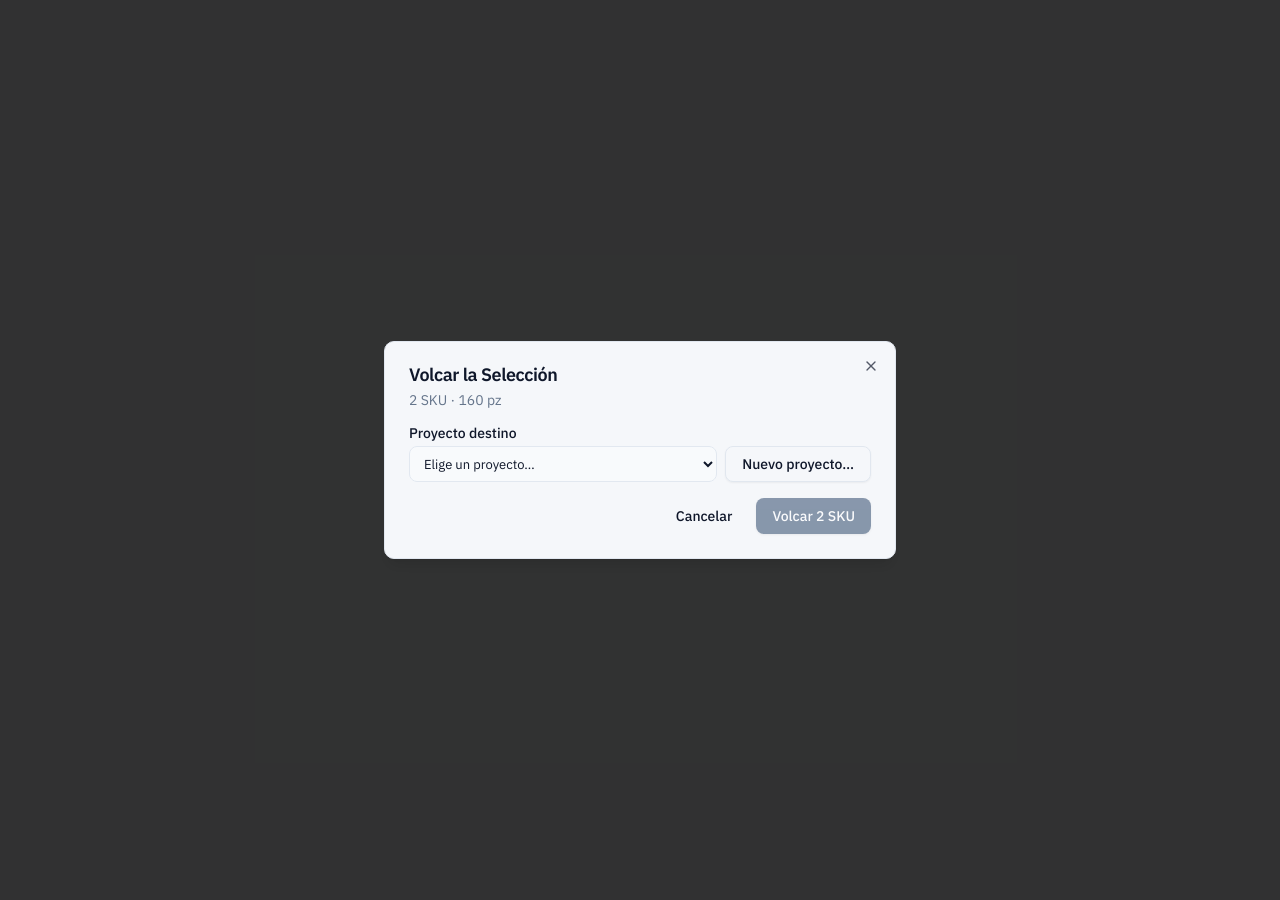
it: [INV-B8.2] VolcarDialog › volcado limpio: enseña el antes → después y vacía la Selección
This screenshot has width=1280, height=900.
Select "PRJ-050 · Rollout Norte" in the dropdown labelled "Proyecto destino" at point(563, 464), box [409,446,717,482]
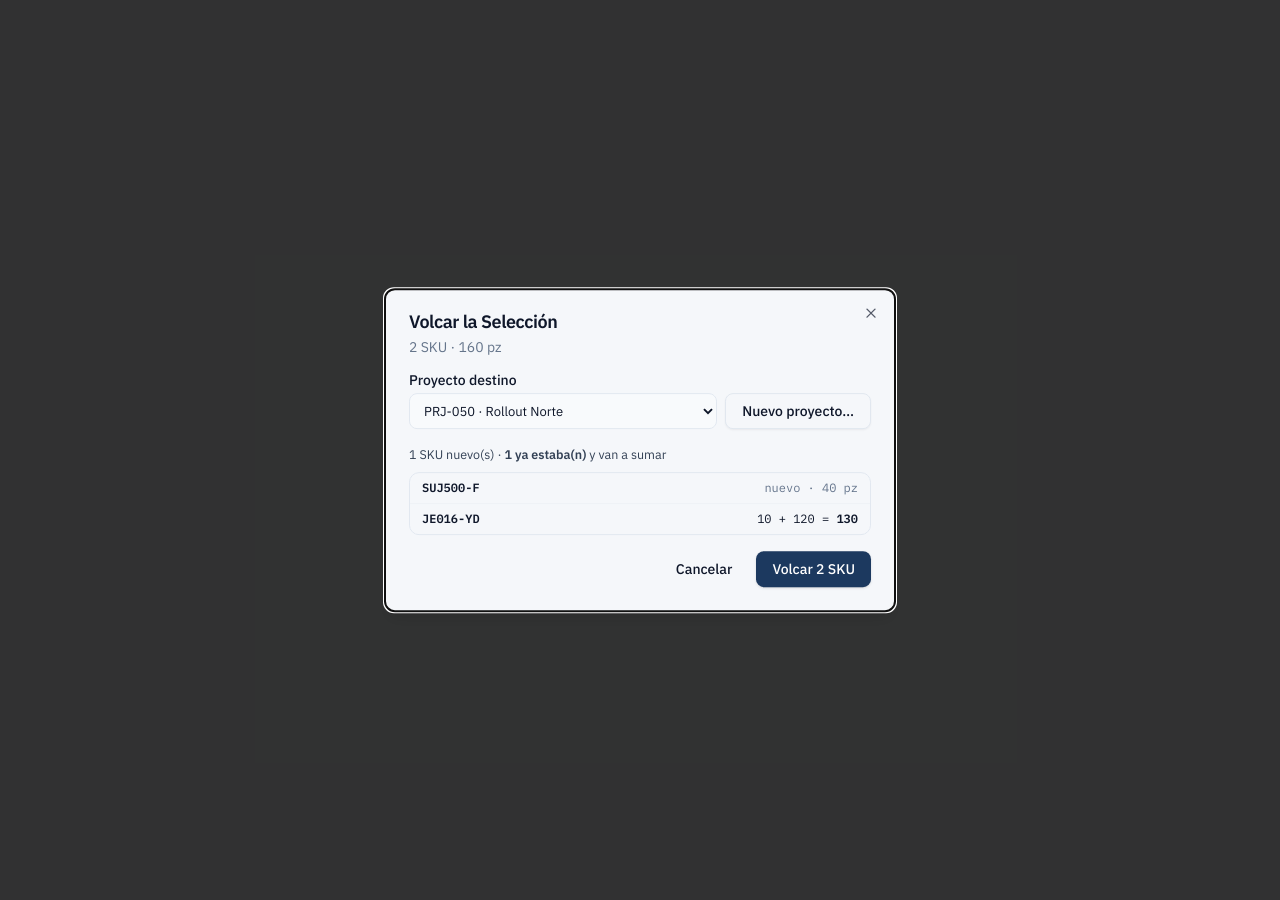
Expected: the button "Volcar 2 SKU" is enabled
Click the button "Volcar 2 SKU".
click(814, 569)  # box [756,551,871,587]
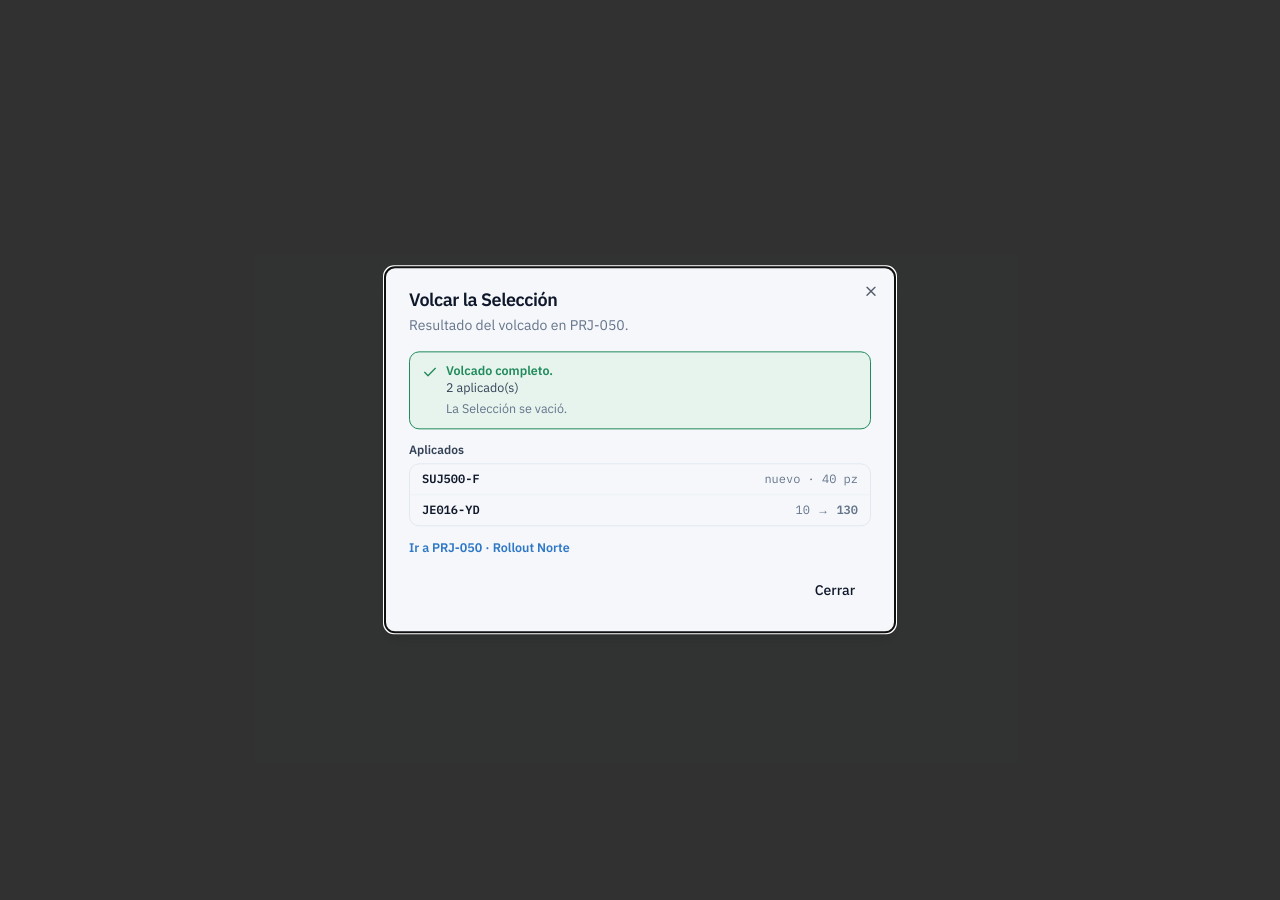
Expected: the text "Volcado completo." is shown, [446,362,567,380]
Expected: the text "10 → 130" is shown, [796,501,858,519]
